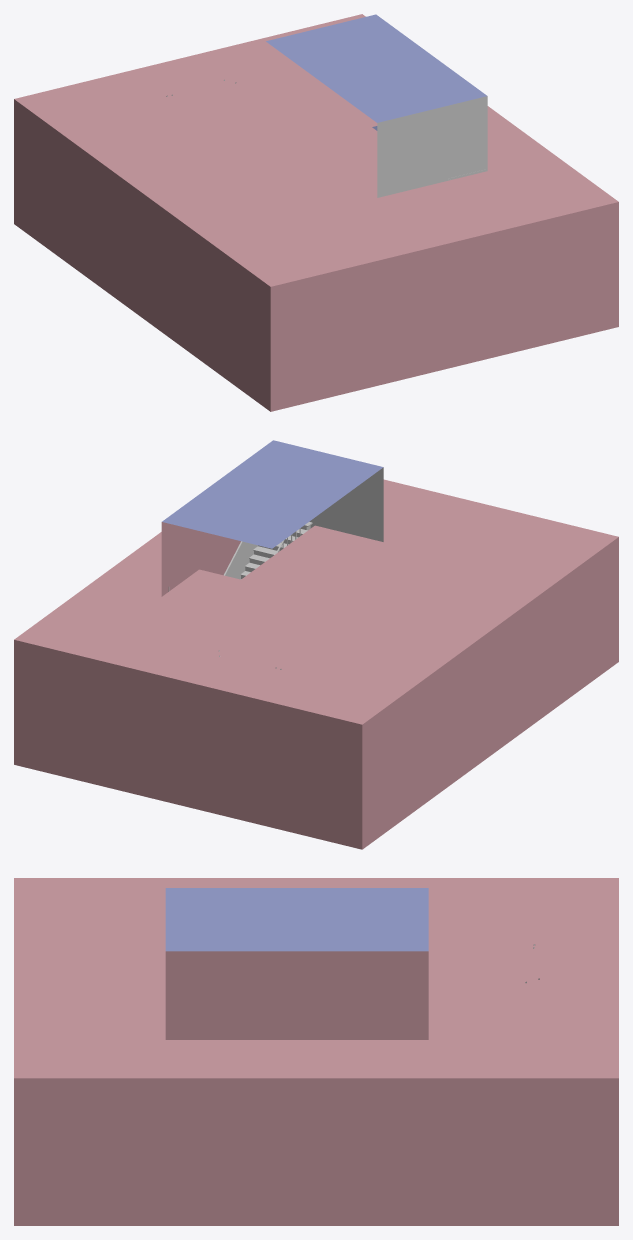
Rendered from Basement.fbx.
3 renders of one model, top to bottom at view 1: azimuth 30°, elevation 25°; view 2: azimuth 150°, elevation 25°; view 3: azimuth 270°, elevation 25°, orthographic. The views are drawn at different scales.
Parts seen in each view (by area): view 1: Outer, Basement; view 2: Outer, Basement, Stairs, Panelling; view 3: Outer, Basement.
Boxes of the visible parts, <box> form: Outer: <box>14,14,618,411</box>; Basement: <box>266,14,487,197</box>; Outer: <box>14,479,618,849</box>; Basement: <box>161,440,383,596</box>; Stairs: <box>240,522,312,579</box>; Panelling: <box>224,541,257,579</box>; Outer: <box>14,878,618,1225</box>; Basement: <box>165,888,428,1039</box>.
Bounding box in the file's own units: 1619 × 889 × 2066.
